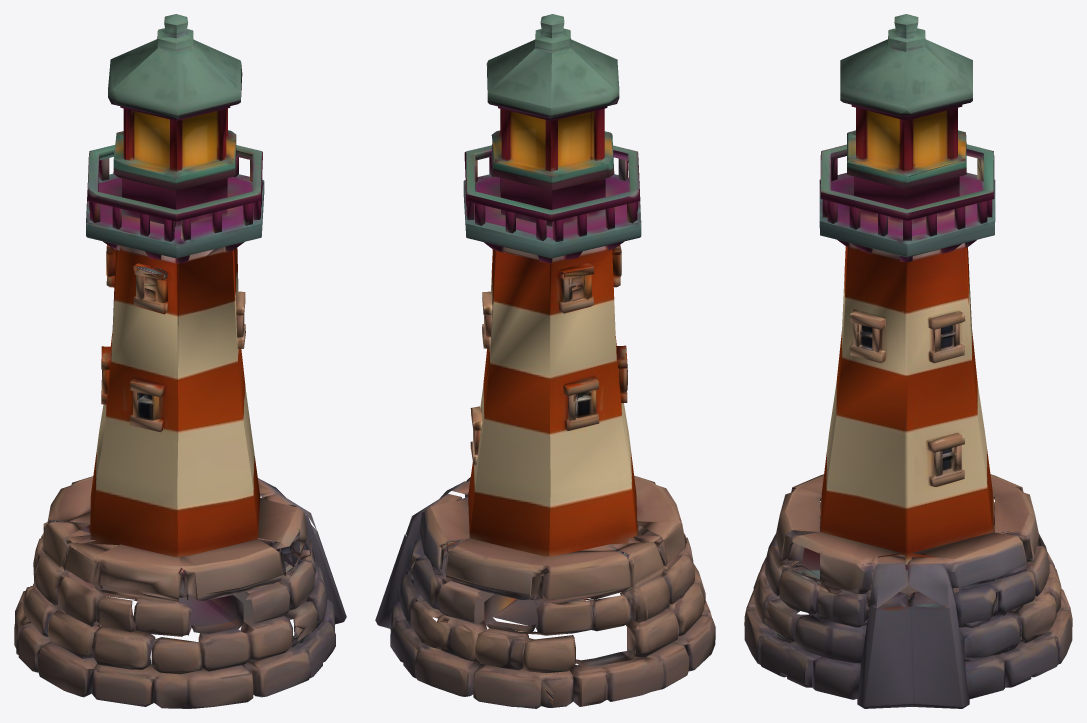
File: asset.glb
3 renders of one model, left to right at view 1: azimuth 30°, elevation 25°; view 2: azimuth 150°, elevation 25°; view 3: azimuth 270°, elevation 25°, orthographic.
Visible parts, largest first — view 1: material; view 2: material; view 3: material.
Part boxes in pixels (box(x1,y1,x2,y2)): material: box(14, 14, 346, 708); material: box(375, 14, 715, 708); material: box(744, 14, 1072, 708).
Size of the model in its own units: 26.01 by 54 by 25.72.
1 material, 1 textured.
